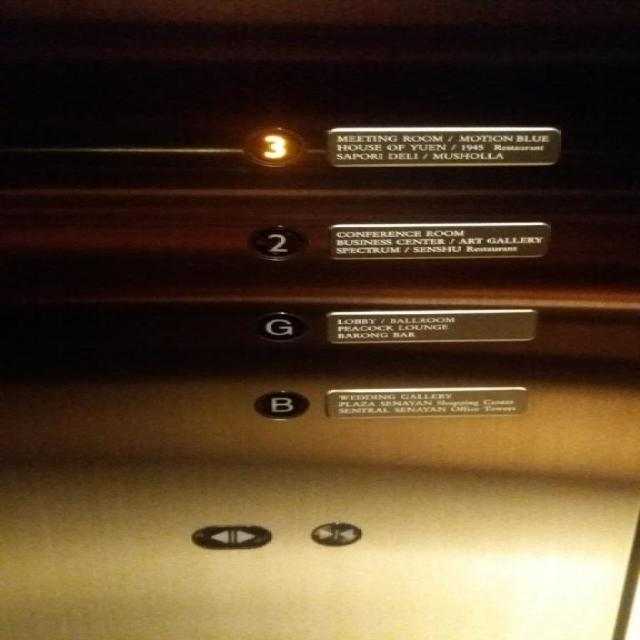2: (238, 220, 311, 266)
3: (238, 122, 310, 171)
B: (247, 387, 312, 423)
G: (244, 306, 314, 346)
close: (306, 519, 364, 549)
open: (187, 521, 276, 551)
